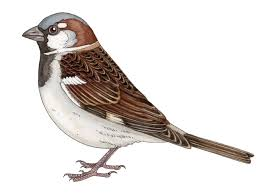hsparrow: (15, 5, 256, 194)
